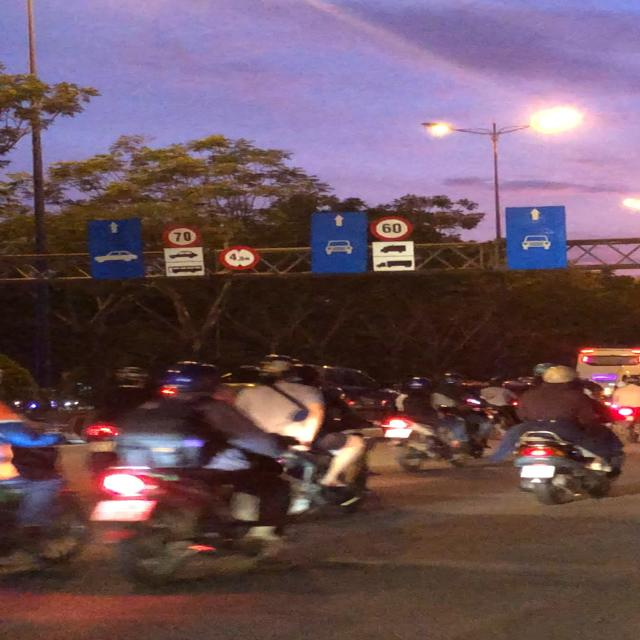Bien bao han che chieu cao: (220, 244, 271, 272)
Bien bao toc do toi da cho phep: (366, 214, 421, 242), (156, 224, 206, 248)
